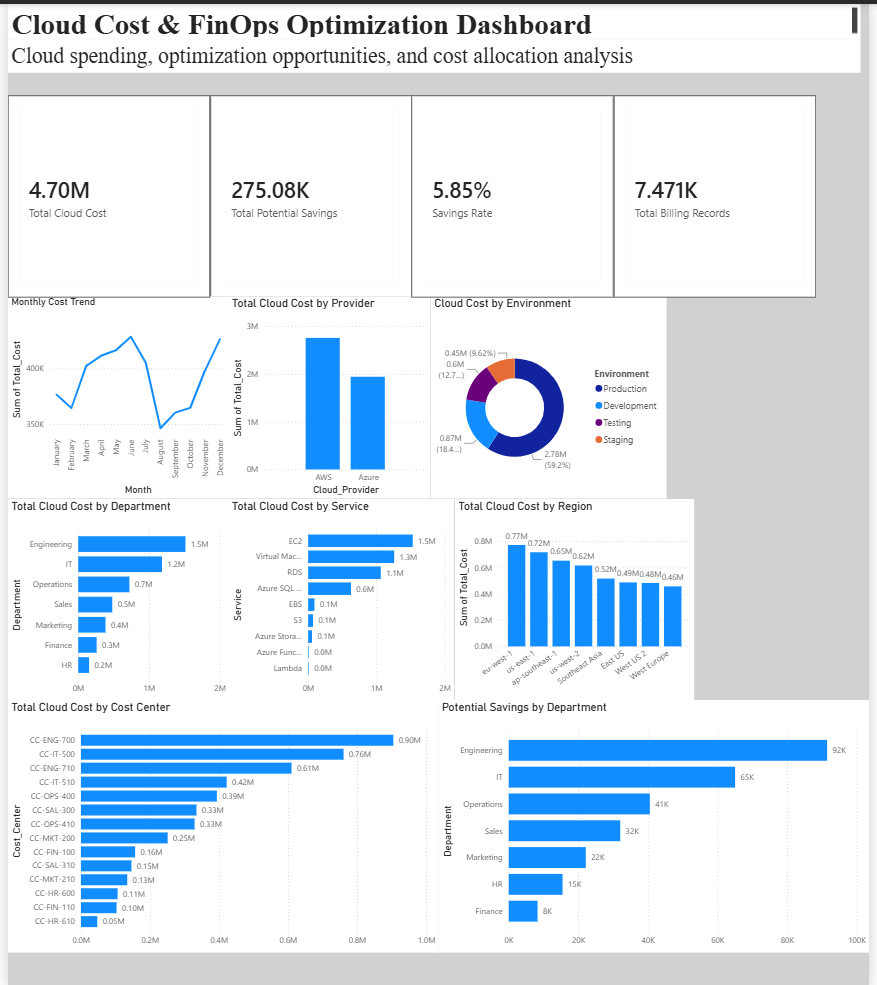

The dashboard page shown, as its layout file describes it:
{"tool":"powerbi","page":{"name":"Page 1","canvas":[1280,1462],"ordinal":0},"visuals":[{"type":"cardVisual","fields":{"Data":["cloud_cost_data.Total Potential Savings"]},"box":[300,135,300,300],"z":0},{"type":"lineChart","title":"Monthly Cost Trend","fields":{"Category":["cloud_cost_data.Month.Variation.Date Hierarchy.Month"],"Y":["Sum(cloud_cost_data.Total_Cost)"]},"box":[0,435,328.3,300],"z":1000},{"type":"clusteredColumnChart","title":"Total Cloud Cost by Provider","fields":{"Category":["cloud_cost_data.Cloud_Provider"],"Y":["Sum(cloud_cost_data.Total_Cost)"]},"box":[328.3,435,300,300],"z":2000},{"type":"clusteredBarChart","title":"Total Cloud Cost by Department","fields":{"Category":["cloud_cost_data.Department"],"Y":["Sum(cloud_cost_data.Total_Cost)"]},"box":[0,735,328.3,300],"z":3000},{"type":"donutChart","title":"Cloud Cost by Environment","fields":{"Category":["cloud_cost_data.Environment"],"Y":["Sum(cloud_cost_data.Total_Cost)"]},"box":[628.3,435,350,300],"z":4000},{"type":"clusteredBarChart","title":"Total Cloud Cost by Service","fields":{"Category":["cloud_cost_data.Service"],"Y":["Sum(cloud_cost_data.Total_Cost)"]},"box":[328.3,735,335,300],"z":5000},{"type":"clusteredColumnChart","title":"Total Cloud Cost by Region","fields":{"Category":["cloud_cost_data.Region"],"Y":["Sum(cloud_cost_data.Total_Cost)"]},"box":[663.3,735,355,300],"z":6000},{"type":"clusteredBarChart","title":"Total Cloud Cost by Cost Center","fields":{"Category":["cloud_cost_data.Cost_Center"],"Y":["Sum(cloud_cost_data.Total_Cost)"]},"box":[0,1035,640,375],"z":7000},{"type":"clusteredBarChart","title":" Potential Savings by Department","fields":{"Category":["cloud_cost_data.Department"],"Y":["cloud_cost_data.Total Potential Savings"]},"box":[640,1035,640,375],"z":8000},{"type":"cardVisual","fields":{"Data":["Sum(cloud_cost_data.Total_Cost)"]},"box":[0,135,300,300],"z":9000},{"type":"cardVisual","fields":{"Data":["CountNonNull(cloud_cost_data.Date)"]},"box":[900,135,300,300],"z":10000},{"type":"cardVisual","fields":{"Data":["cloud_cost_data.Savings Rate"]},"box":[600,135,300,300],"z":11000},{"type":"textbox","box":[286.7,1485,13.3,15],"z":12000},{"type":"textbox","box":[0,0,1266.7,53.3],"z":13000},{"type":"textbox","box":[0,53.3,1266.7,48.3],"z":14000}]}

Visuals, with their boxes in screenshot pixels (x1, y1, x2, y2), scaled from the page's 1280x1462 canvas onto the 877x985 screenshot:
cardVisual - cloud_cost_data.Total Potential Savings: x1=206, y1=91, x2=411, y2=293
"Monthly Cost Trend" lineChart: x1=0, y1=293, x2=225, y2=495
"Total Cloud Cost by Provider" clusteredColumnChart: x1=225, y1=293, x2=430, y2=495
"Total Cloud Cost by Department" clusteredBarChart: x1=0, y1=495, x2=225, y2=697
"Cloud Cost by Environment" donutChart: x1=430, y1=293, x2=670, y2=495
"Total Cloud Cost by Service" clusteredBarChart: x1=225, y1=495, x2=454, y2=697
"Total Cloud Cost by Region" clusteredColumnChart: x1=454, y1=495, x2=698, y2=697
"Total Cloud Cost by Cost Center" clusteredBarChart: x1=0, y1=697, x2=438, y2=950
" Potential Savings by Department" clusteredBarChart: x1=438, y1=697, x2=876, y2=950
cardVisual - Sum(cloud_cost_data.Total_Cost): x1=0, y1=91, x2=206, y2=293
cardVisual - CountNonNull(cloud_cost_data.Date): x1=617, y1=91, x2=822, y2=293
cardVisual - cloud_cost_data.Savings Rate: x1=411, y1=91, x2=617, y2=293
textbox: x1=0, y1=0, x2=868, y2=36
textbox: x1=0, y1=36, x2=868, y2=68
